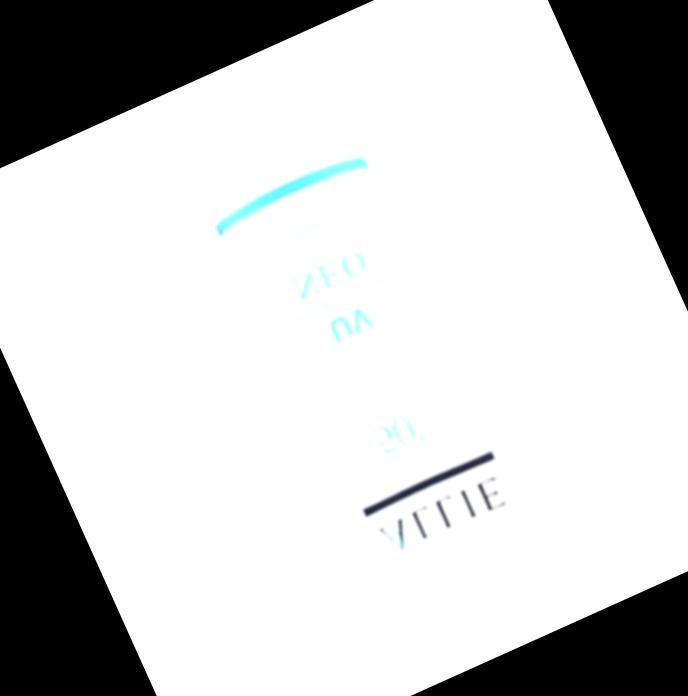cosmetic: (143, 53, 590, 670)
